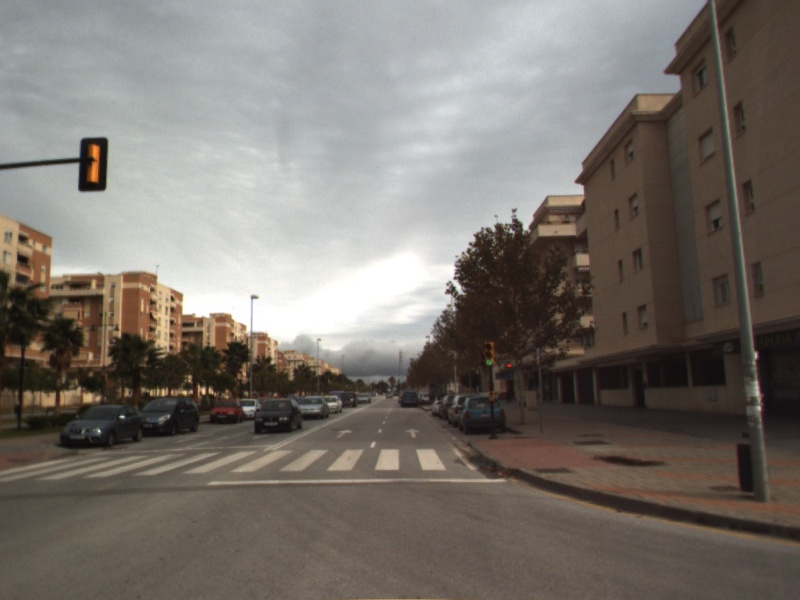STRAIGHT: (334, 427, 355, 440), (403, 426, 422, 439)
